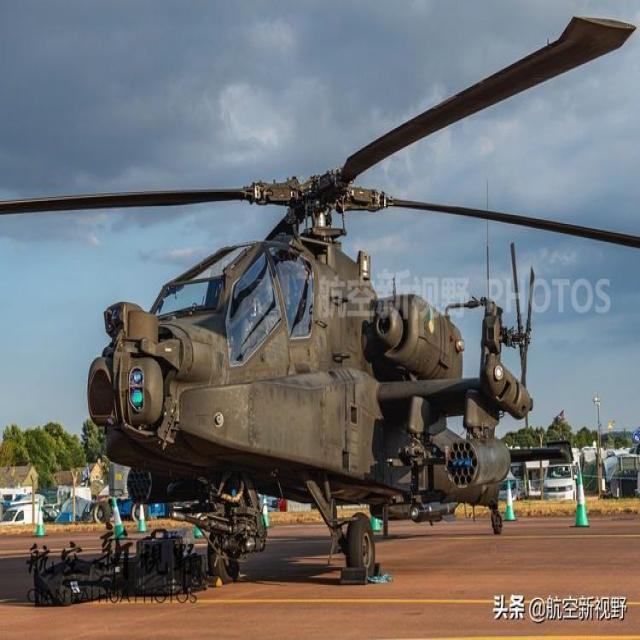MIL_HELO: (7, 14, 640, 568)
